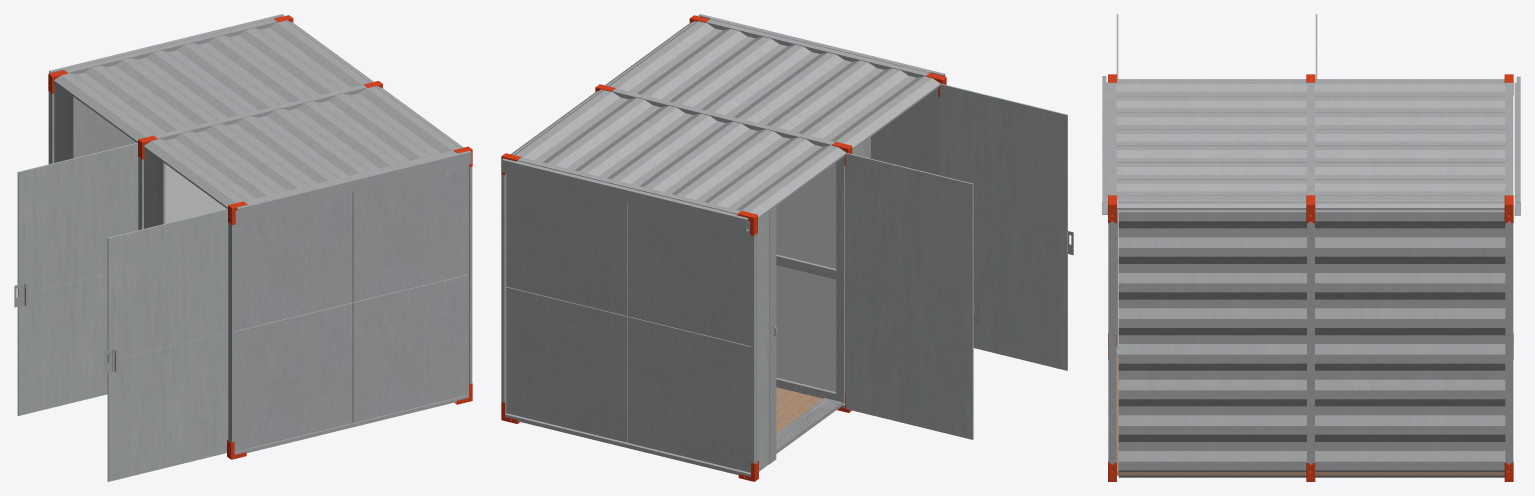
The model's file is 6S2_opened.glb.
The picture shows the model from 3 angles, left to right: view 1: azimuth 30°, elevation 25°; view 2: azimuth 150°, elevation 25°; view 3: azimuth 270°, elevation 25°; orthographic projection. The views are drawn at different scales.
Parts seen in each view (by area): view 1: leftSideOfDoors.001, Cube.001, celing, frontRim, gutter, Cube, Wall, corners, gutter.001; view 2: leftSideOfDoors.001, Cube, celing, Wall, frontRim, gutter.001, Cube.001, Wall.001, corners, floor, floor.002, gutter; view 3: back, celing, frontRim, floor.002, corners, gutter.001, gutter, leftSideOfDoors.001.
Boxes of the visible parts, box(x1,y1,x2,y2) form: leftSideOfDoors.001: box(14, 83, 228, 481); Cube.001: box(234, 164, 468, 451); celing: box(54, 20, 463, 208); frontRim: box(48, 19, 472, 454); gutter: box(235, 150, 471, 220); Cube: box(75, 98, 136, 157); Wall: box(165, 164, 226, 223); corners: box(48, 15, 472, 459); gutter.001: box(49, 14, 284, 73); leftSideOfDoors.001: box(757, 84, 1073, 471); Cube: box(506, 173, 750, 472); celing: box(511, 21, 940, 218); Wall: box(776, 162, 836, 391); frontRim: box(501, 19, 939, 476); gutter.001: box(502, 158, 749, 231); Cube.001: box(871, 88, 939, 175); Wall.001: box(776, 156, 844, 403); corners: box(501, 15, 946, 481); floor: box(776, 398, 842, 453); floor.002: box(776, 387, 822, 432); gutter: box(698, 14, 945, 76); back: box(1118, 200, 1505, 477); celing: box(1116, 79, 1505, 209); frontRim: box(1108, 82, 1513, 471); floor.002: box(1116, 356, 1504, 475); corners: box(1108, 74, 1513, 481); gutter.001: box(1514, 76, 1520, 215); gutter: box(1102, 76, 1108, 214); leftSideOfDoors.001: box(1116, 14, 1317, 346).
Size of what is drawn, in the model's own units: 35 by 23.06 by 31.39.
Materials: 9 (8 with a texture image).
